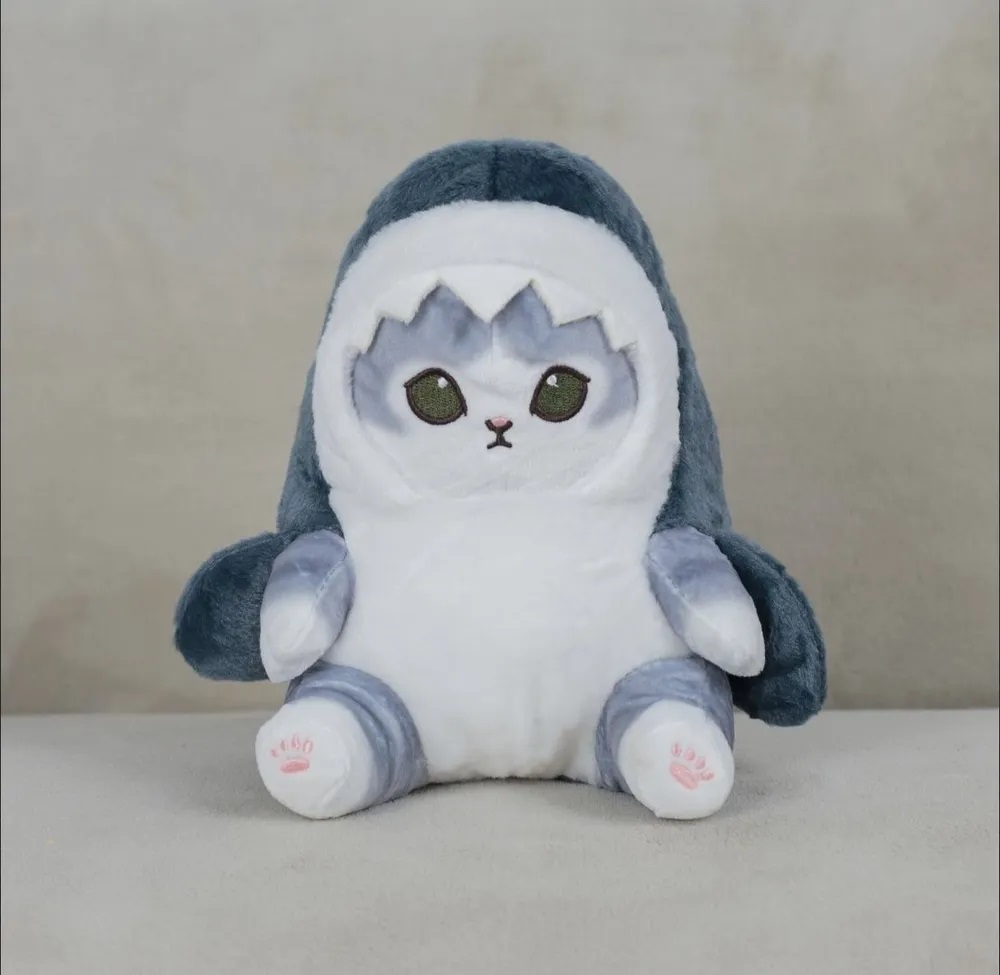cat_shark: (176, 137, 831, 821)
